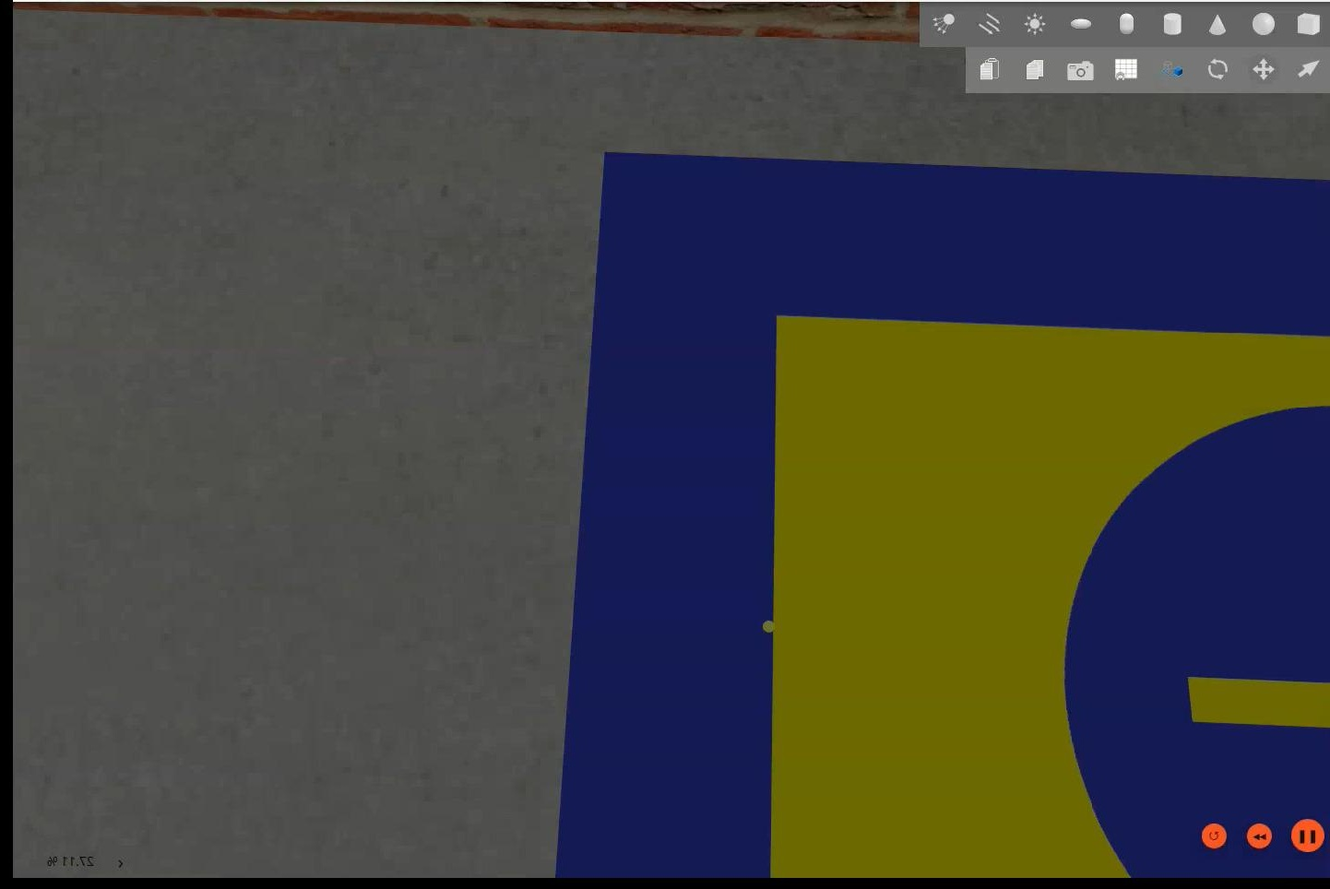large_base: (546, 151, 1328, 878)
